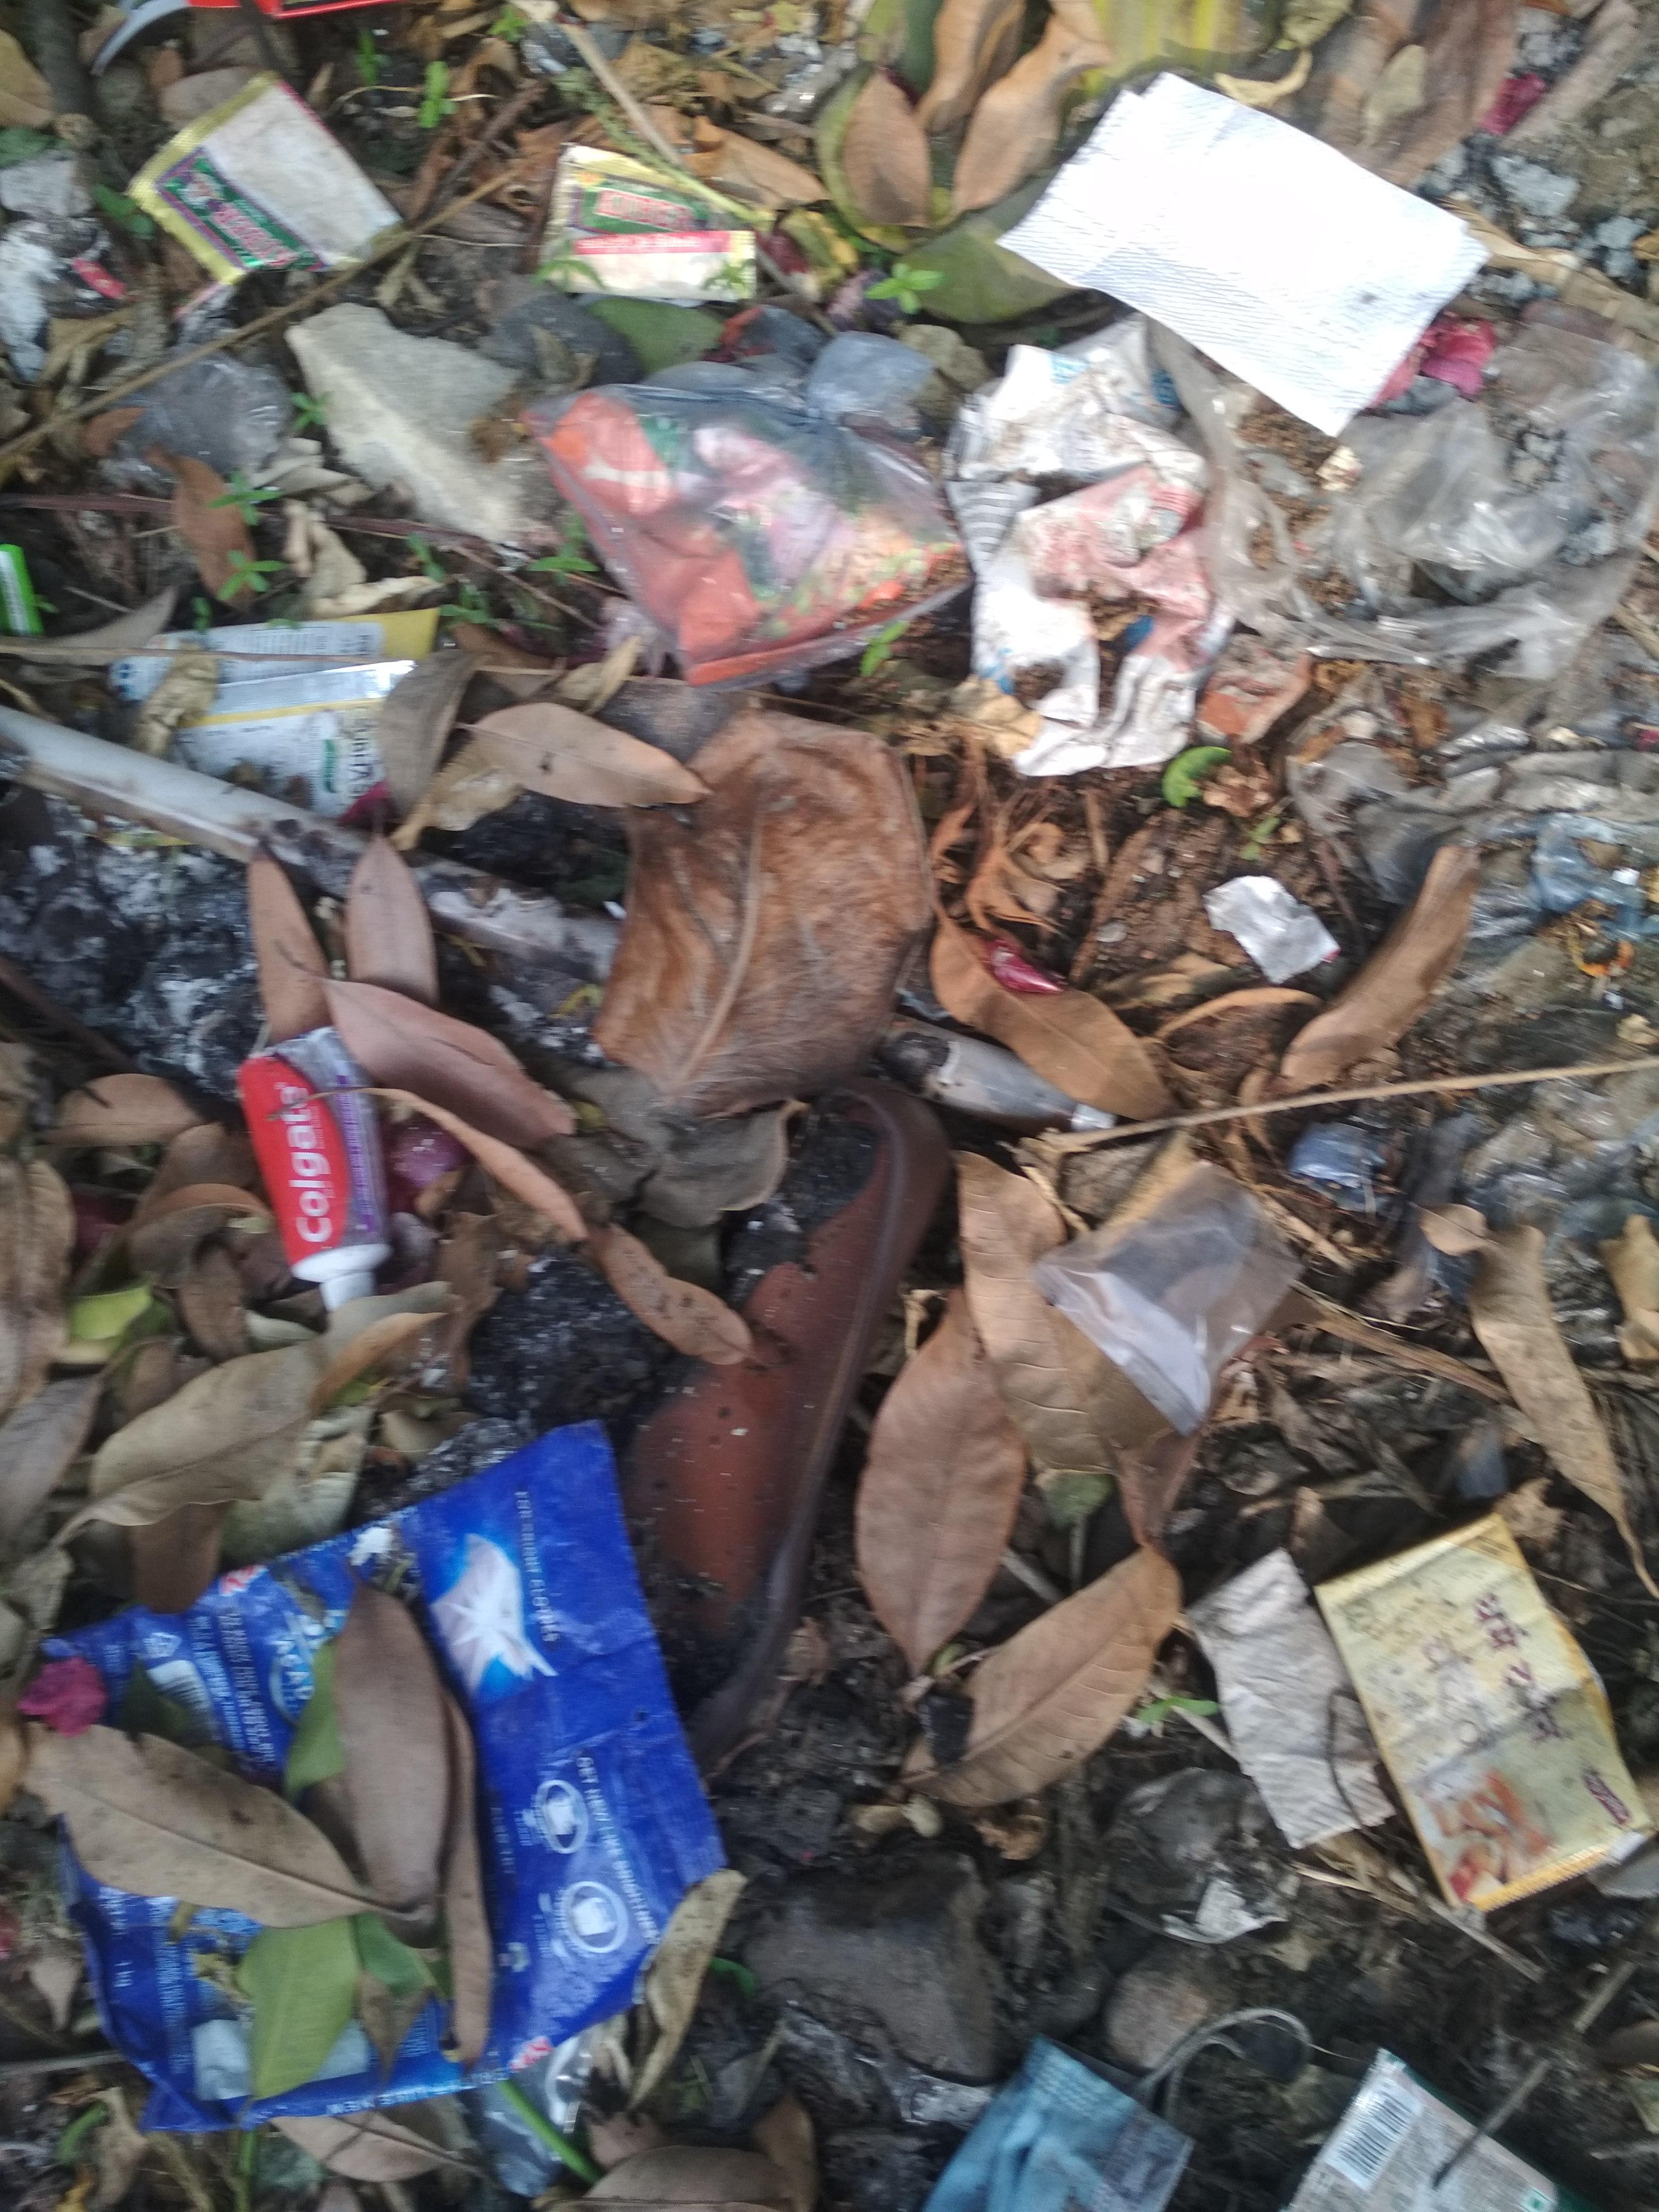trash: (2, 68, 1483, 2212)
